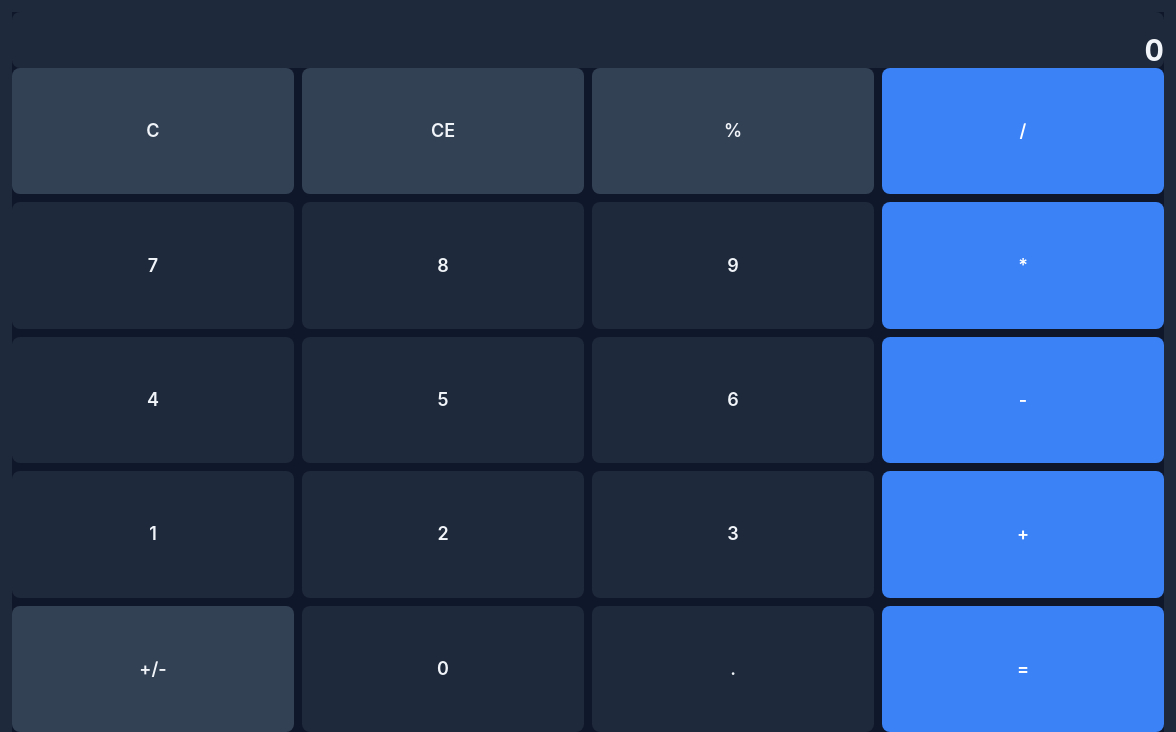
Calculator › clears display on C click
Click the button "7": [153, 266] box [12,202,294,329]
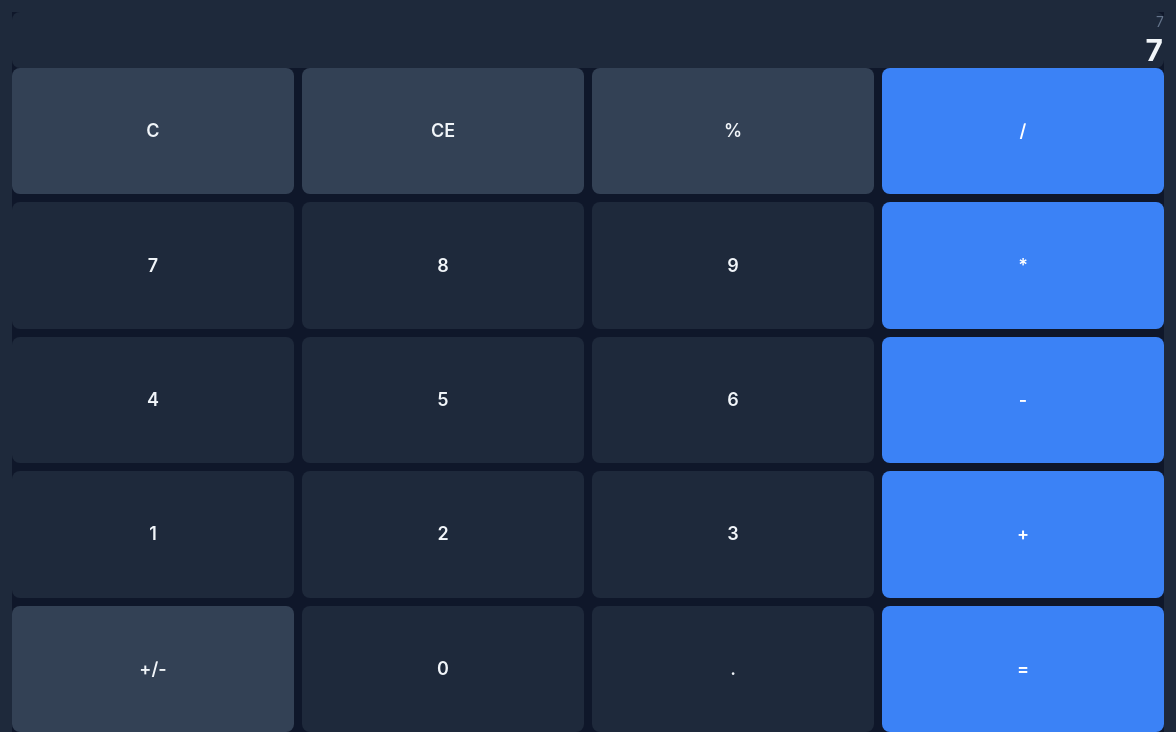
Result: the 2nd text "7" is shown at [1145,32,1164,68]
Click the button "C": [153, 131] box [12,68,294,194]
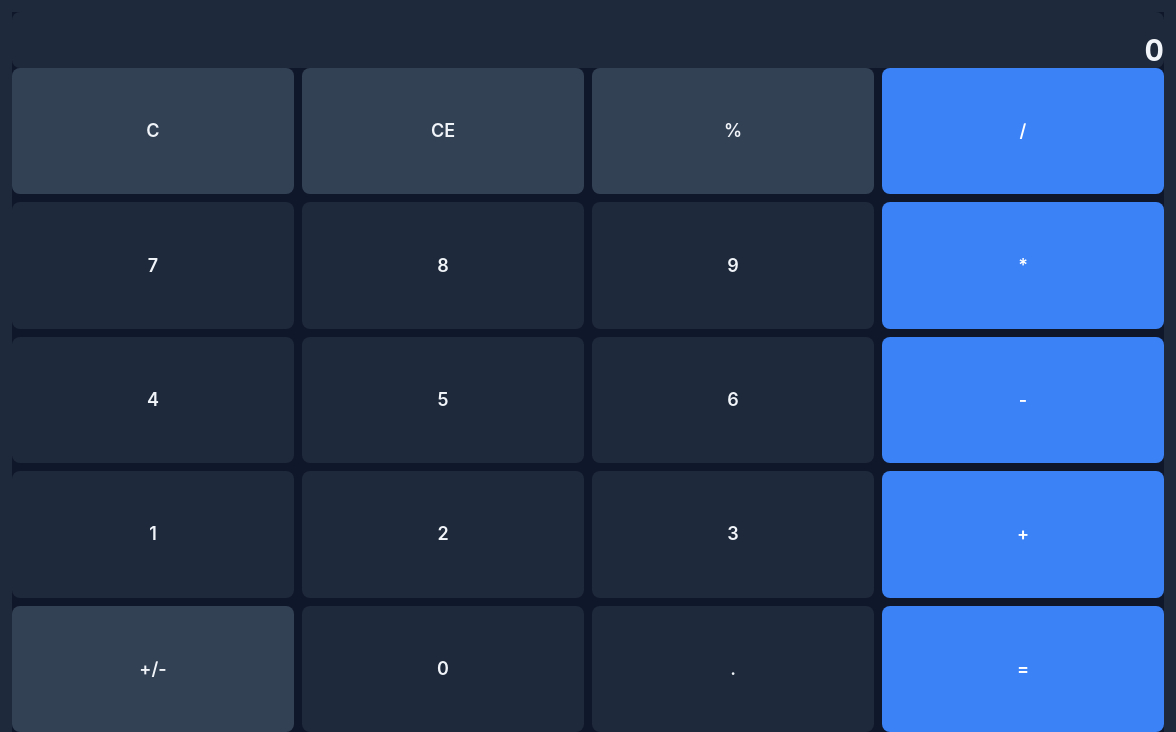
Result: the text "0" is shown at [1145,32,1164,68]
